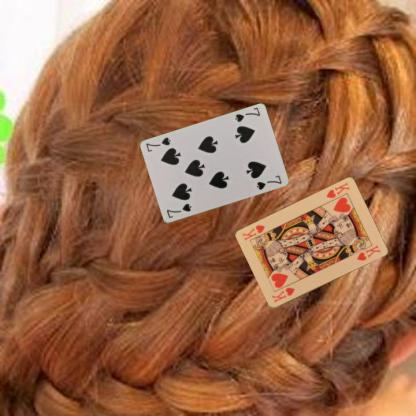7s: (232, 105, 261, 124), (164, 201, 192, 220)
Kh: (324, 180, 351, 200), (269, 285, 296, 304)
